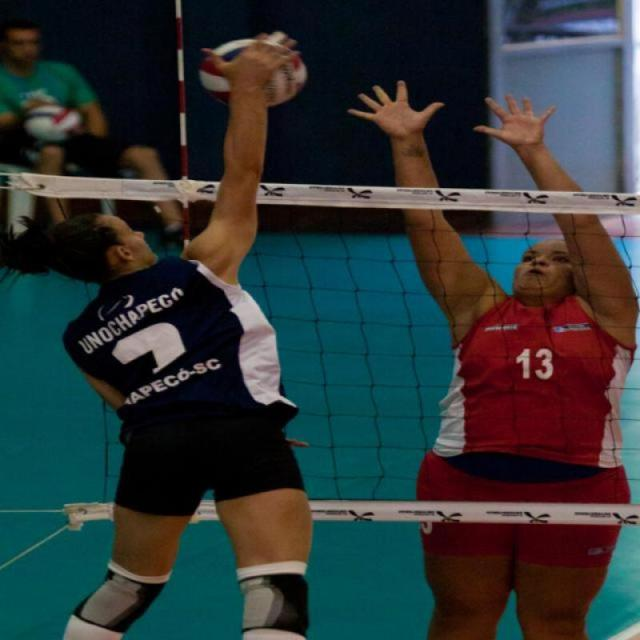volleyball: (191, 28, 306, 106)
